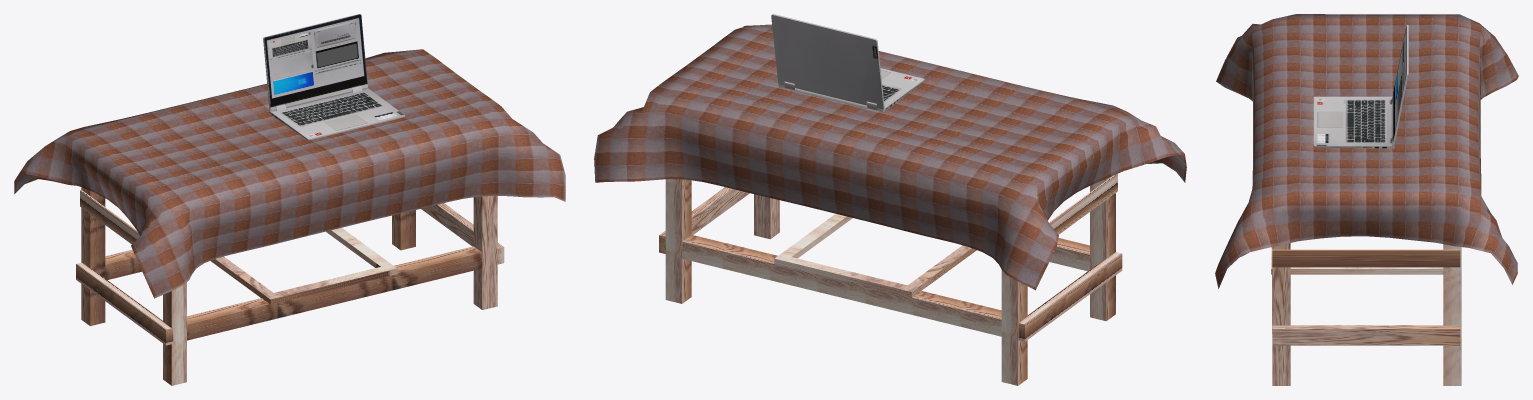
File: table.glb
3 renders of one model, left to right at view 1: azimuth 30°, elevation 25°; view 2: azimuth 150°, elevation 25°; view 3: azimuth 270°, elevation 25°, orthographic. The views are drawn at different scales.
Visible parts, largest first — view 1: blanket_Plane.011, Lenovo laptop; view 2: blanket_Plane.011, Lenovo laptop; view 3: blanket_Plane.011, Lenovo laptop.
Boxes of the visible parts, x1,y1,x2,y2 form: blanket_Plane.011: [14, 49, 565, 385]; Lenovo laptop: [263, 14, 405, 140]; blanket_Plane.011: [594, 24, 1186, 385]; Lenovo laptop: [771, 14, 924, 111]; blanket_Plane.011: [1215, 14, 1518, 385]; Lenovo laptop: [1313, 24, 1408, 148].
Bounding box in the file's own units: 4.12 × 2.44 × 2.44.
Materials: 4 (4 with a texture image).
